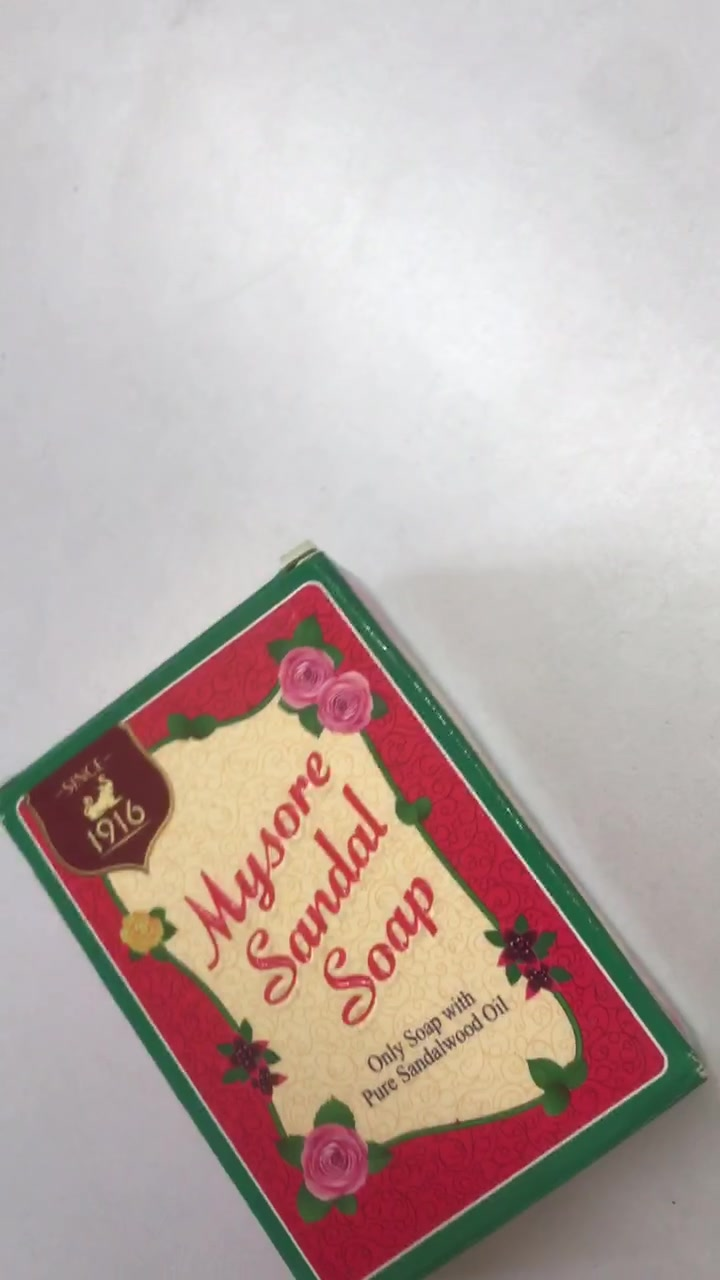mysore sandal soap: (1, 539, 712, 1270)
